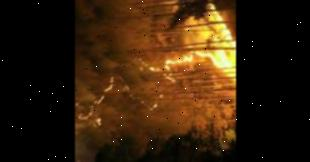fire: (138, 0, 235, 106)
